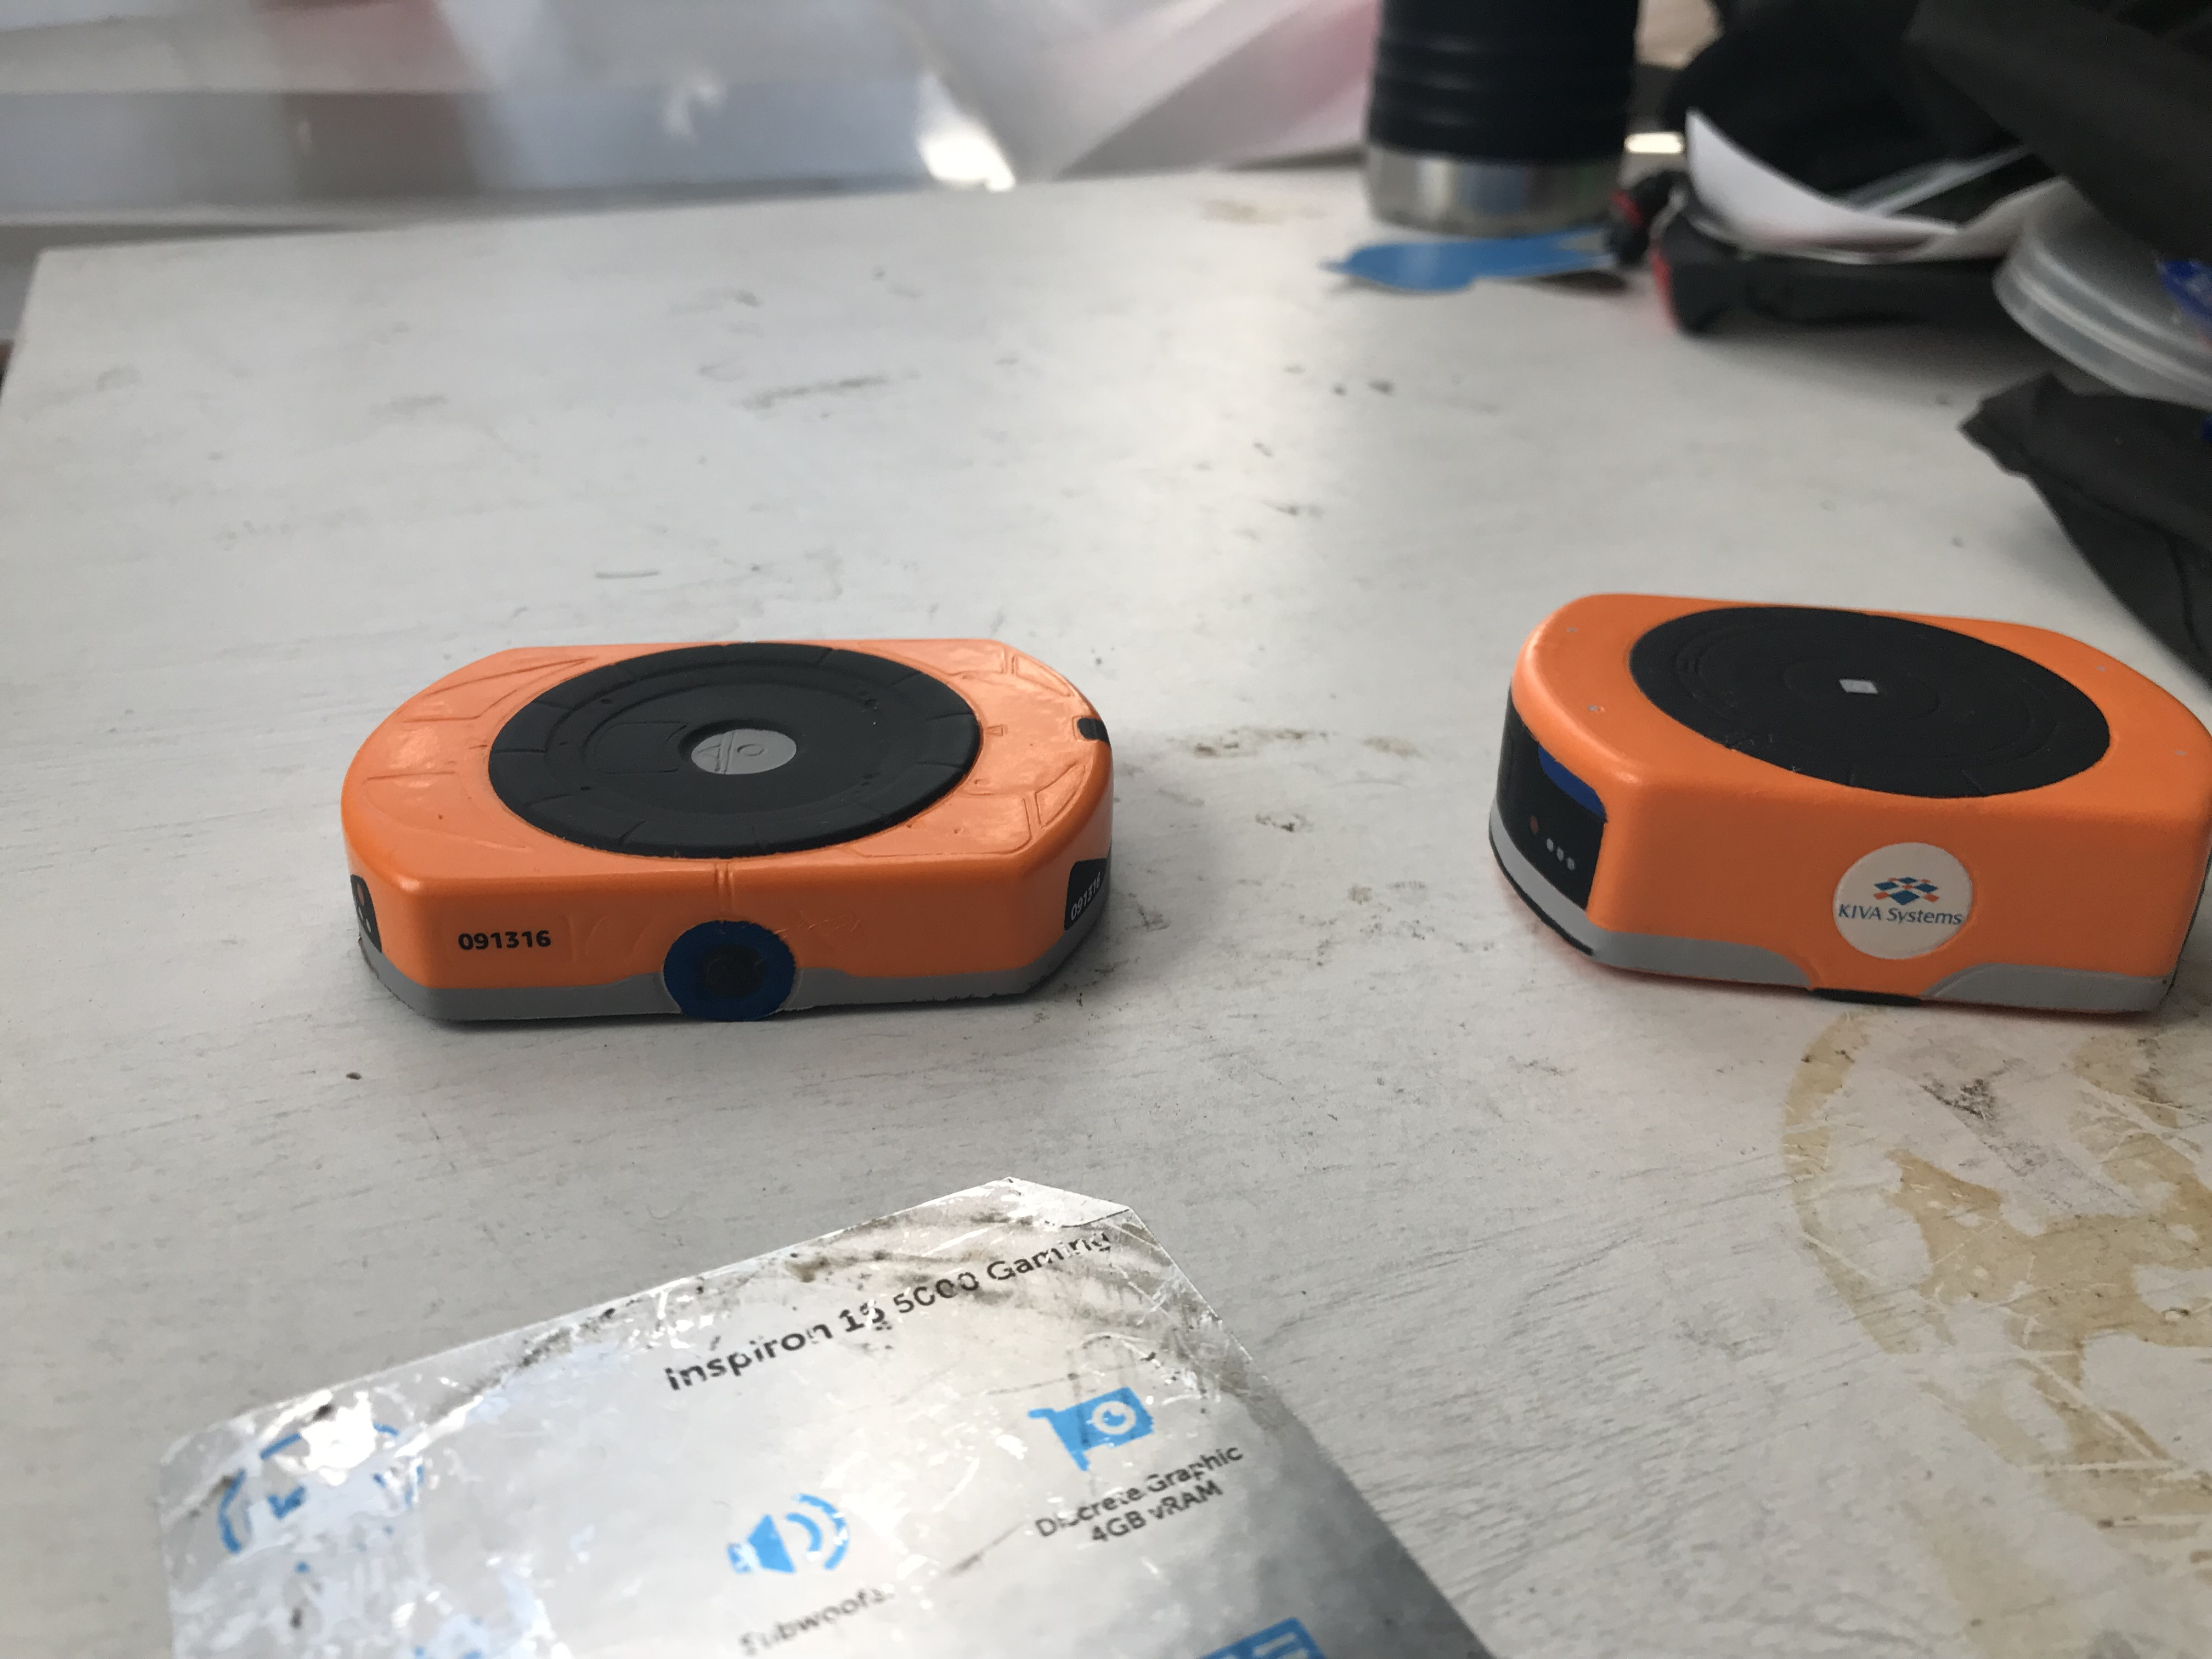amazon_bot: (1489, 577, 2212, 1065), (334, 612, 1122, 1051)
